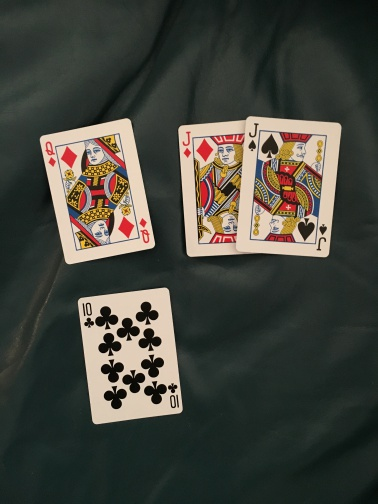jack: (239, 115, 342, 259), (177, 120, 246, 260)
queen: (39, 117, 156, 266)
ten: (76, 287, 184, 427)
